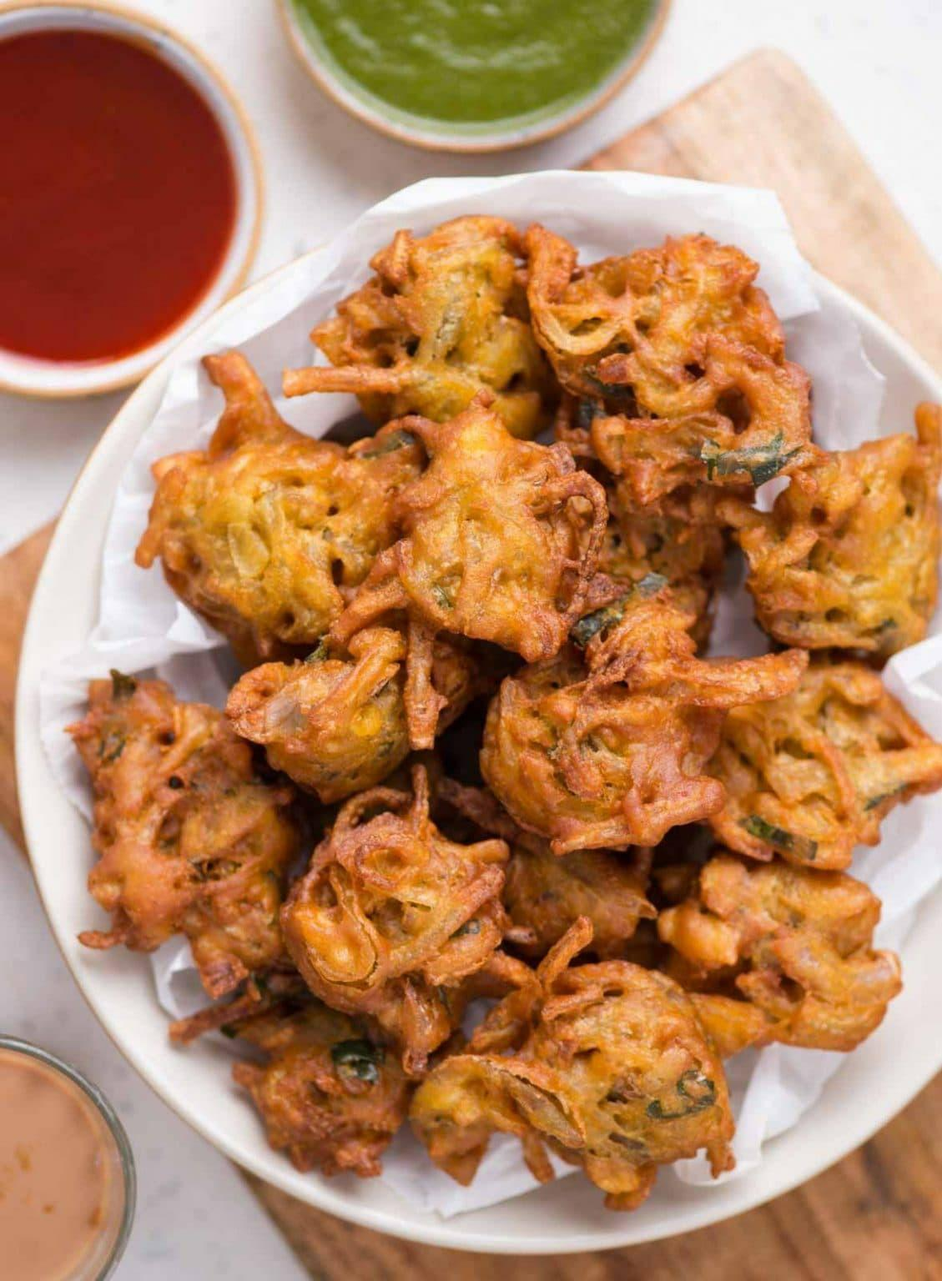GreenChutney: (295, 0, 652, 122)
OnionPakoda: (93, 173, 942, 1204)
